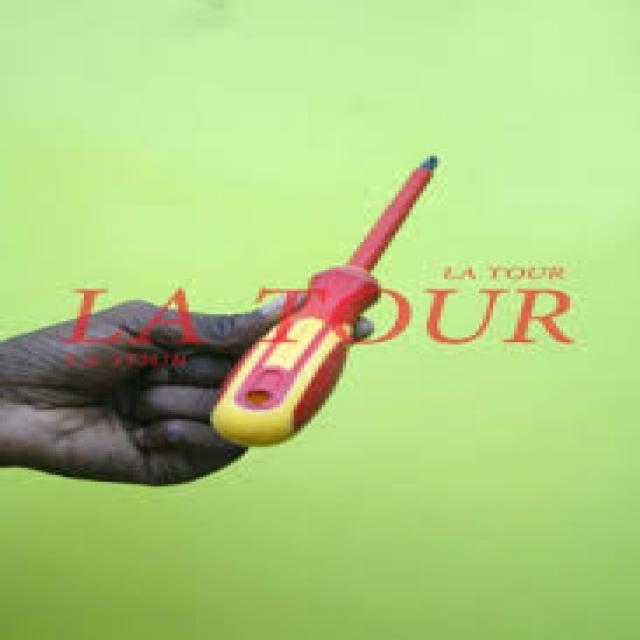screwdriver: (208, 151, 446, 454)
